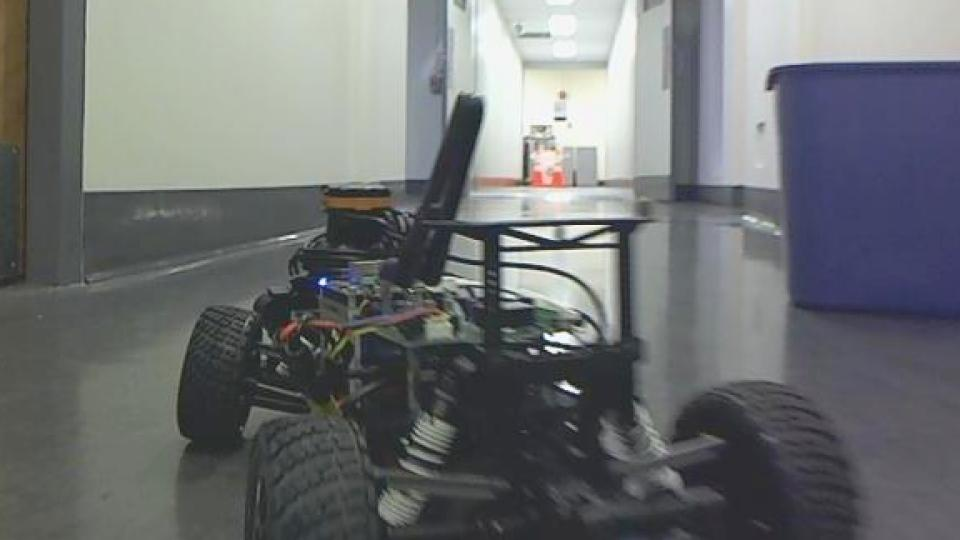car: (173, 88, 867, 540)
